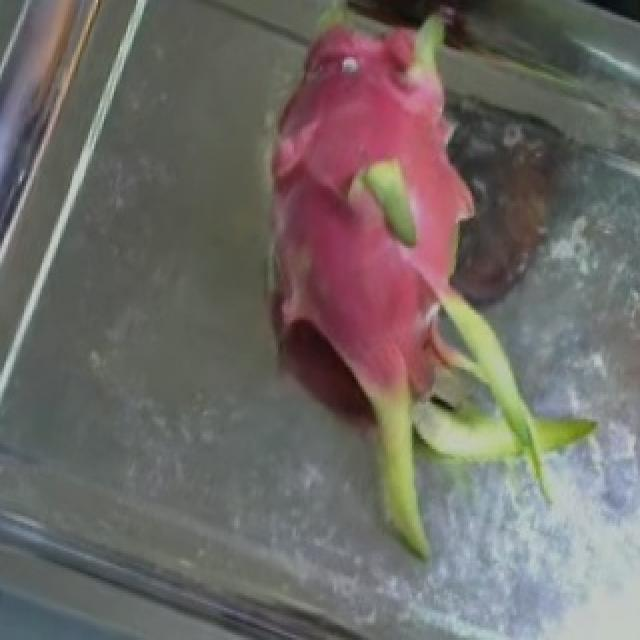fruit: (176, 0, 622, 466)
